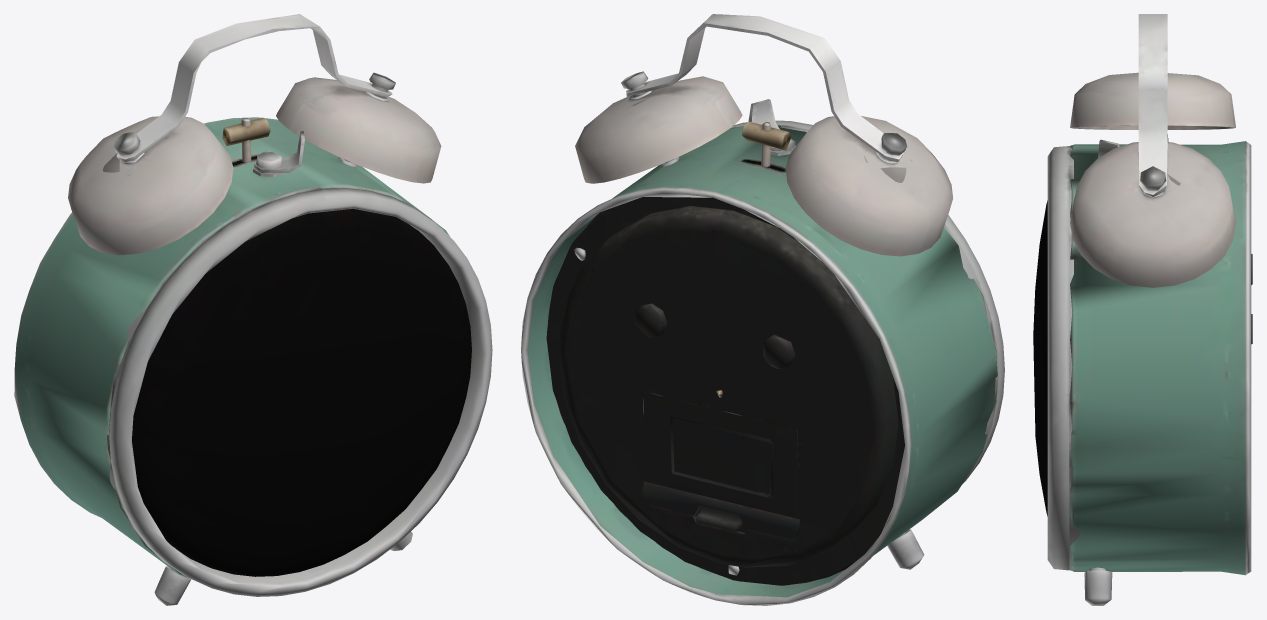
The model's file is alarm_clock_01.glb.
3 renders of one model, left to right at view 1: azimuth 30°, elevation 25°; view 2: azimuth 150°, elevation 25°; view 3: azimuth 270°, elevation 25°, orthographic. The views are drawn at different scales.
Visible parts, largest first — view 1: alarm_clock_01; view 2: alarm_clock_01; view 3: alarm_clock_01.
Part boxes in pixels (x1,y1,x2,y2): alarm_clock_01: (14, 14, 492, 605); alarm_clock_01: (521, 14, 1004, 605); alarm_clock_01: (1033, 14, 1252, 605).
Size of the model in its own units: 0.1312 by 0.1738 by 0.0662.
2 materials, 2 textured.
